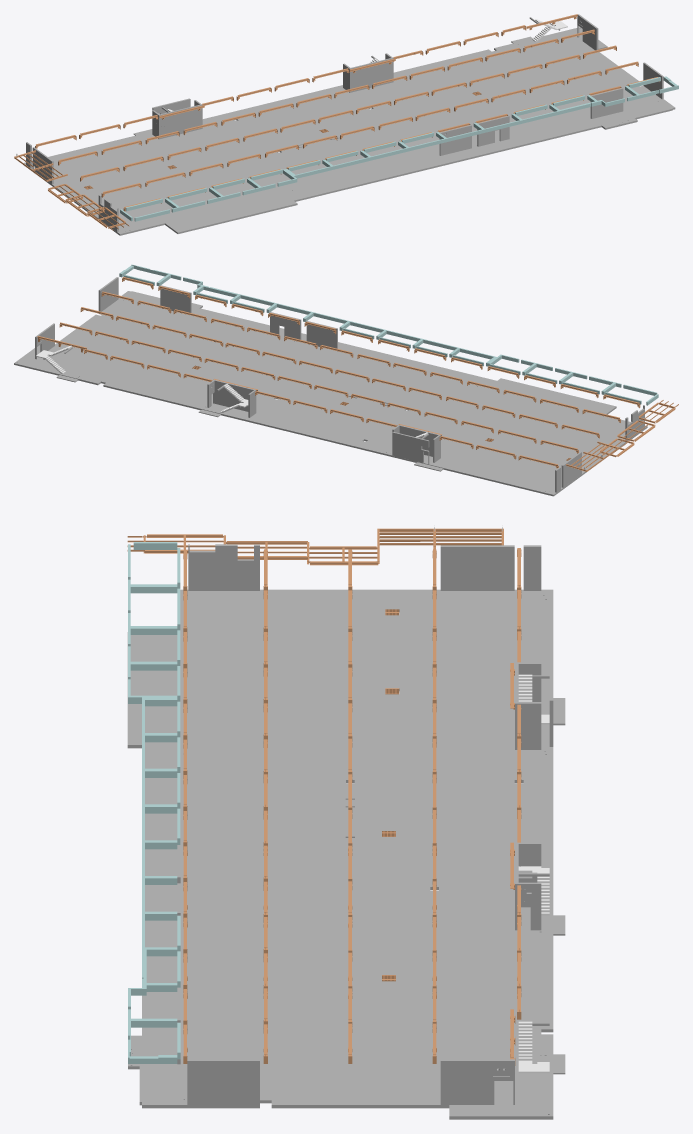
File: detail-frame-1-gf.glb
3 views of the same model, one above another, from view 1: azimuth 30°, elevation 25°; view 2: azimuth 150°, elevation 25°; view 3: azimuth 270°, elevation 25° (orthographic). The views are drawn at different scales.
Bounding box in the file's own units: 110 × 4.78 × 37.34.
